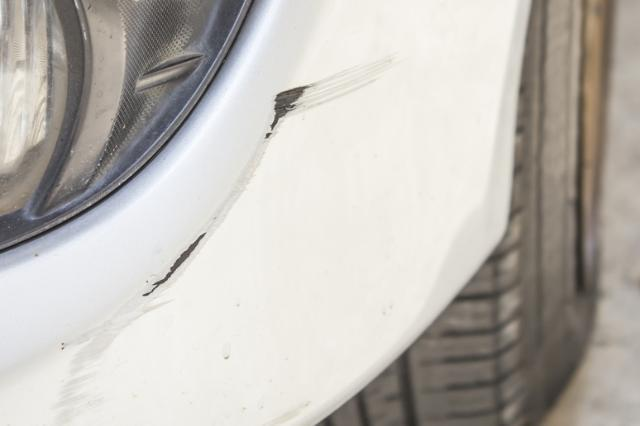Bumper: (31, 35, 453, 424)
